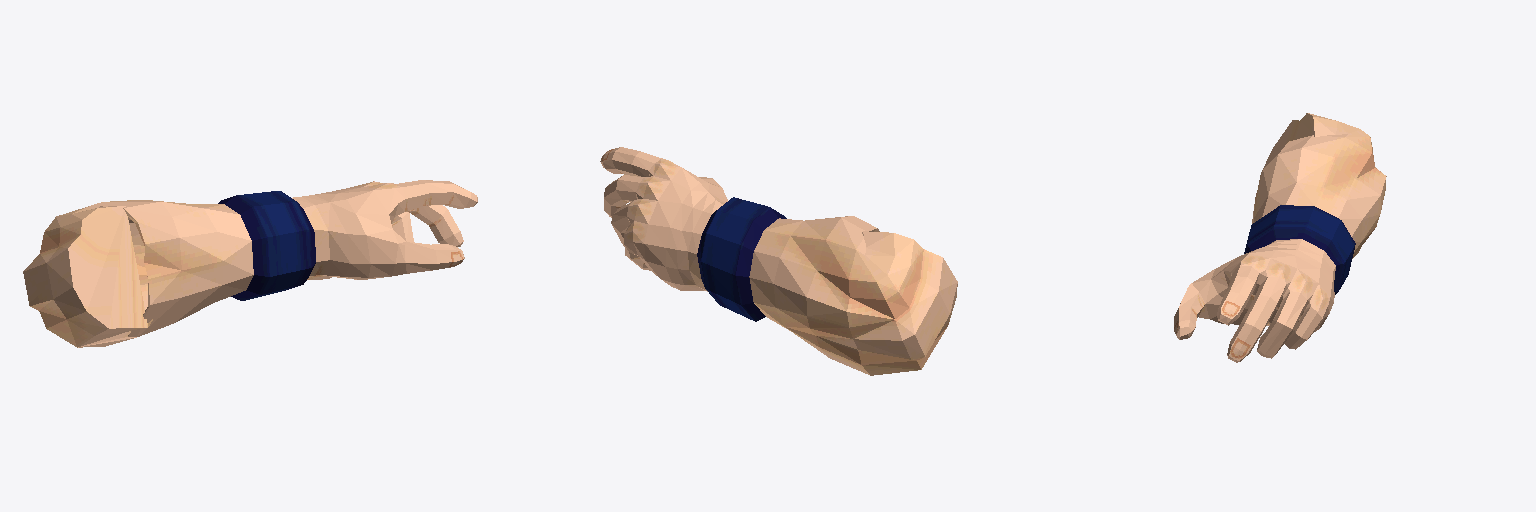
3 views of the same model, side by side, from view 1: azimuth 30°, elevation 25°; view 2: azimuth 150°, elevation 25°; view 3: azimuth 270°, elevation 25° (orthographic).
Parts seen in each view (by area): view 1: Mesh.404_DrawCall_231; view 2: Mesh.404_DrawCall_231; view 3: Mesh.404_DrawCall_231.
Boxes of the visible parts, x1,y1,x2,y2 form: Mesh.404_DrawCall_231: [23, 180, 477, 347]; Mesh.404_DrawCall_231: [600, 147, 957, 375]; Mesh.404_DrawCall_231: [1174, 113, 1386, 362].
Bounding box in the file's own units: 10.67 × 3.72 × 5.12.
Materials: 3 (3 with a texture image).